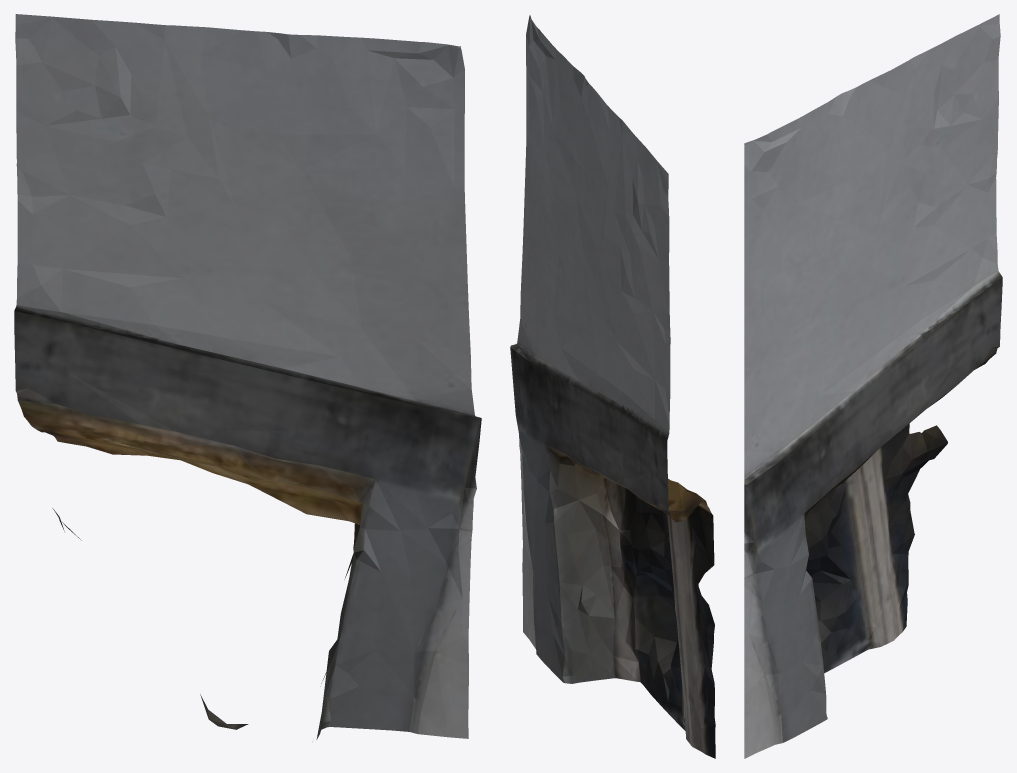
3 renders of one model, left to right at view 1: azimuth 30°, elevation 25°; view 2: azimuth 150°, elevation 25°; view 3: azimuth 270°, elevation 25°, orthographic. The views are drawn at different scales.
Bounding box in the file's own units: 0.8112 × 1.67 × 0.6396.
Materials: 2 (2 with a texture image).
